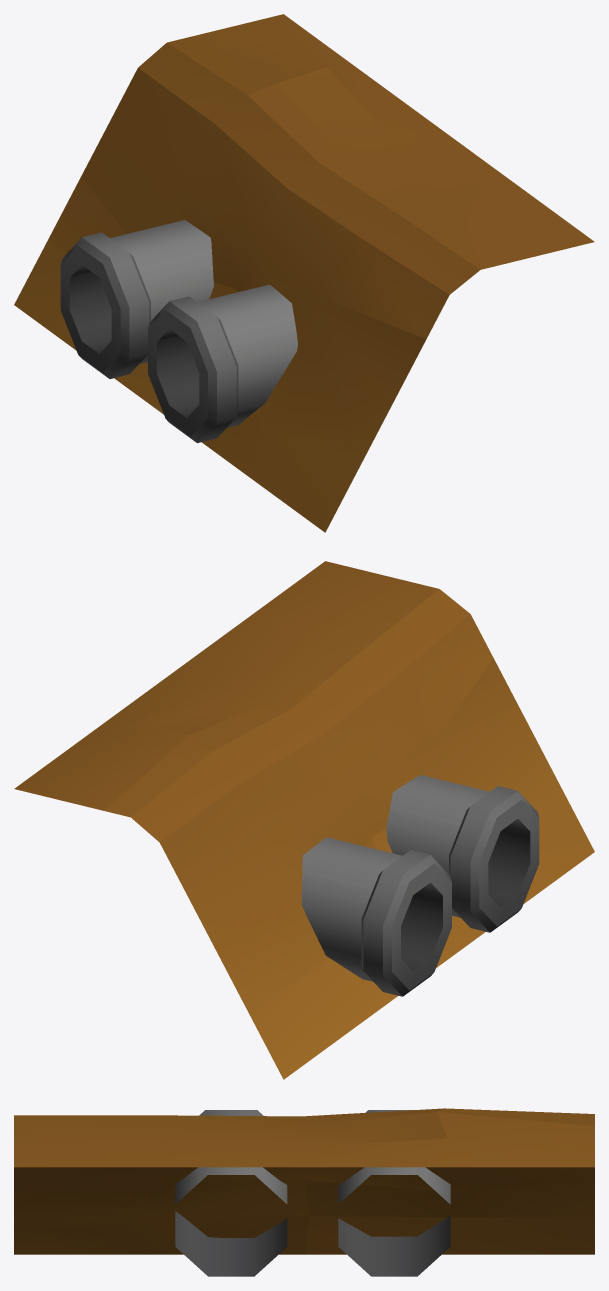
The model's file is cGround_A_Side_3.glb.
The picture shows the model from 3 angles, top to bottom: view 1: azimuth 30°, elevation 25°; view 2: azimuth 150°, elevation 25°; view 3: azimuth 270°, elevation 25°; orthographic projection. The views are drawn at different scales.
Parts seen in each view (by area): view 1: cGround_A_Side_3; view 2: cGround_A_Side_3; view 3: cGround_A_Side_3.
Boxes of the visible parts, x1,y1,x2,y2 form: cGround_A_Side_3: (14, 14, 594, 532); cGround_A_Side_3: (14, 561, 594, 1079); cGround_A_Side_3: (14, 1108, 594, 1276).
Size of the model in its own units: 4.46 by 3.4 by 8.
1 material, 1 textured.
